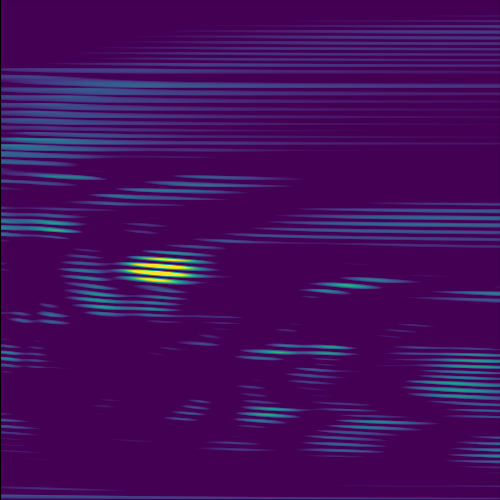semblance: (113, 251, 219, 285)
